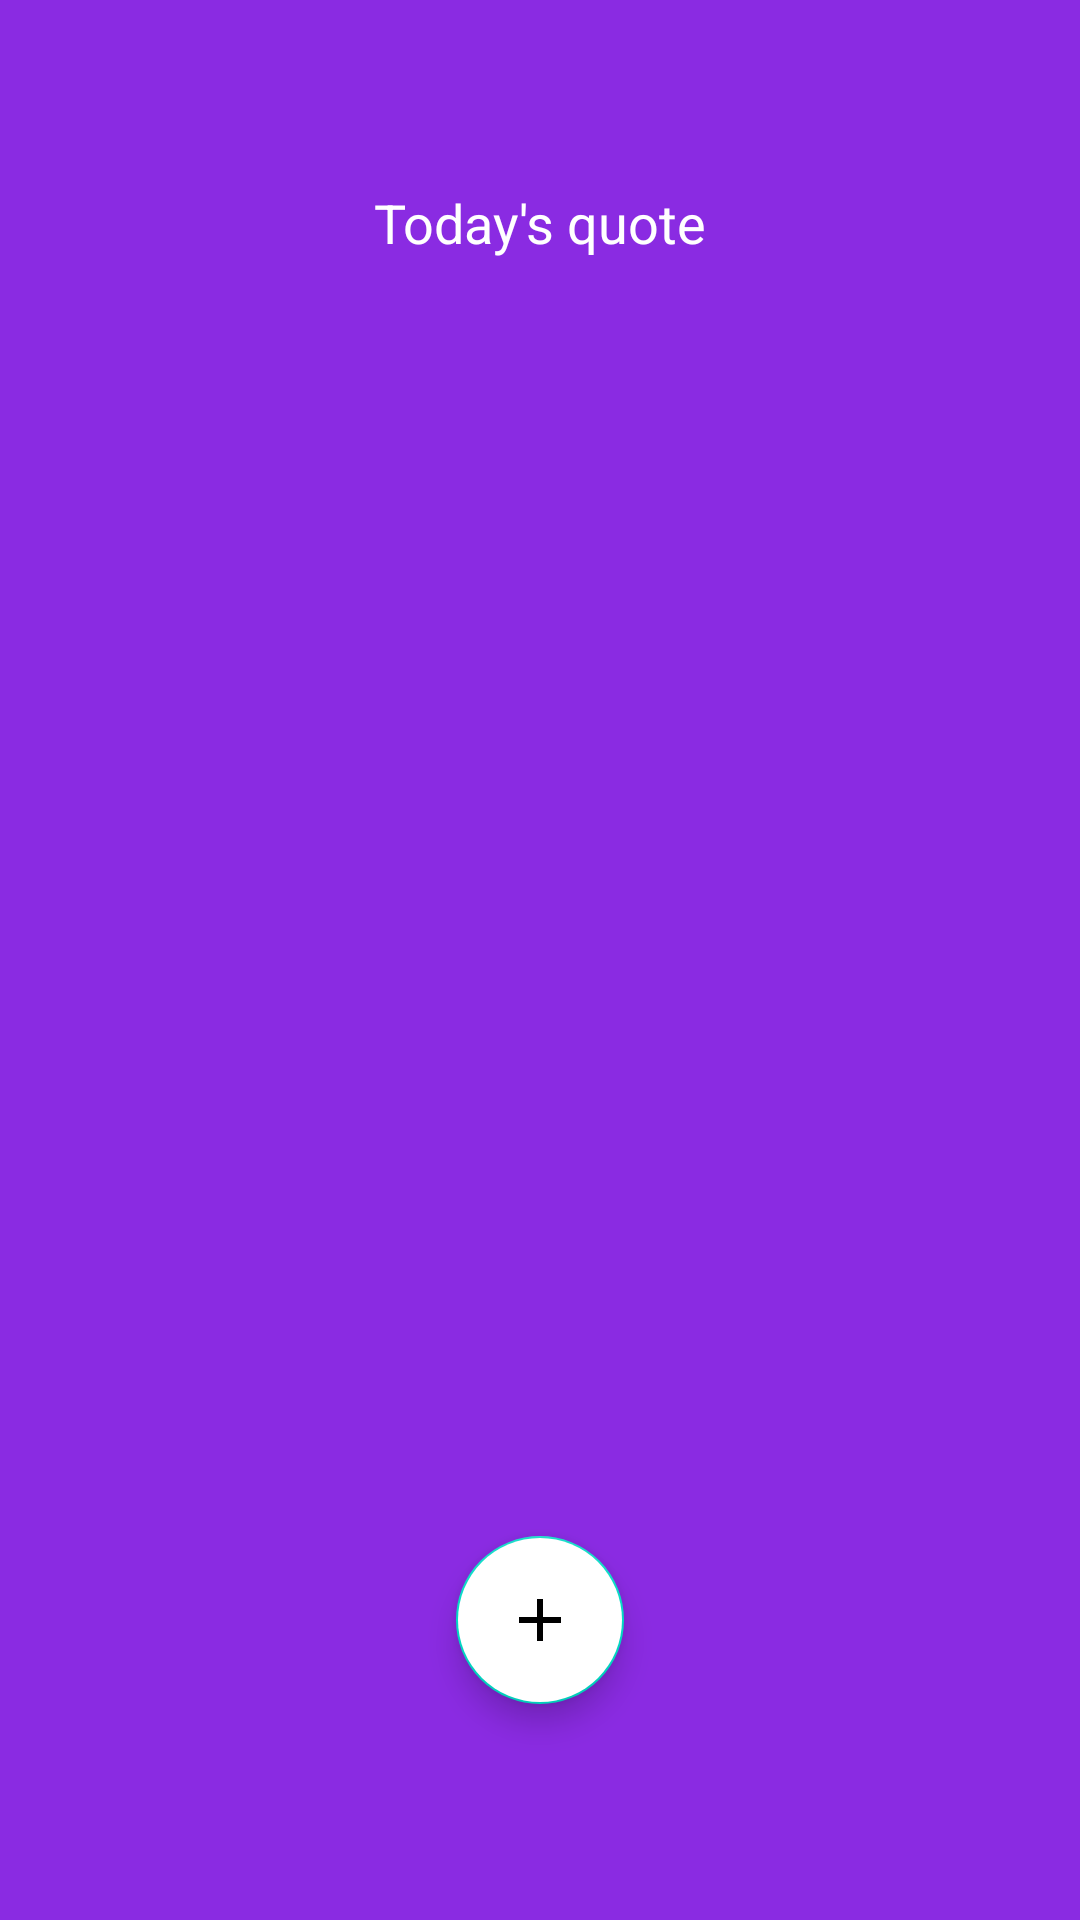

Icons on this 1080px×1920px Android screen, each with the point to tap as point (x, y):
add: point (540, 1620)
